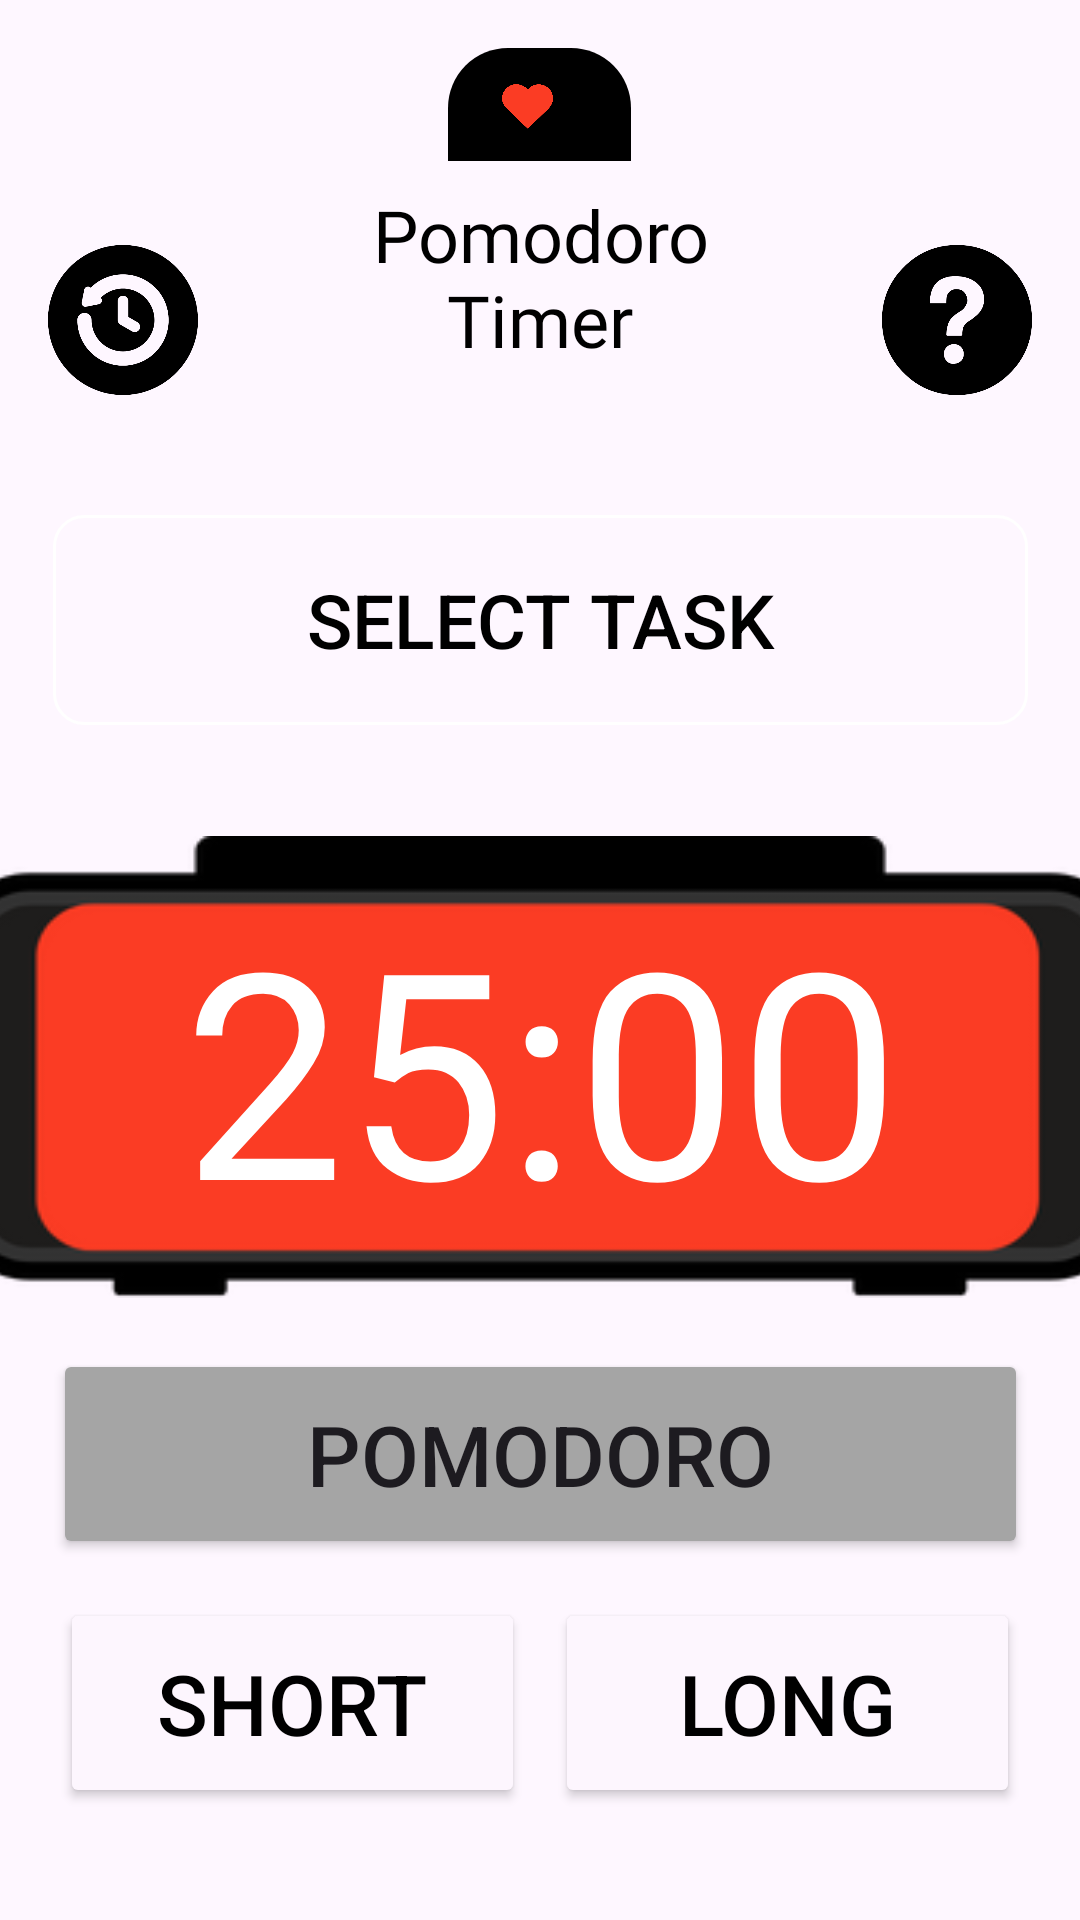

Icons on this 1080 x 1920 Android screen, each with its box as detection(x1, y1, x2, y2):
Heart Icon: detection(502, 84, 553, 129)
Help Icon: detection(882, 245, 1032, 395)
History Icon: detection(48, 245, 198, 395)
